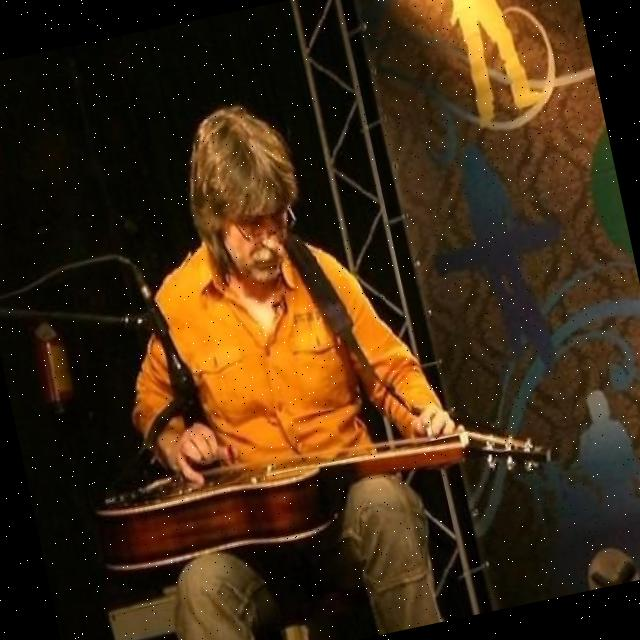guitar: (80, 392, 562, 582)
